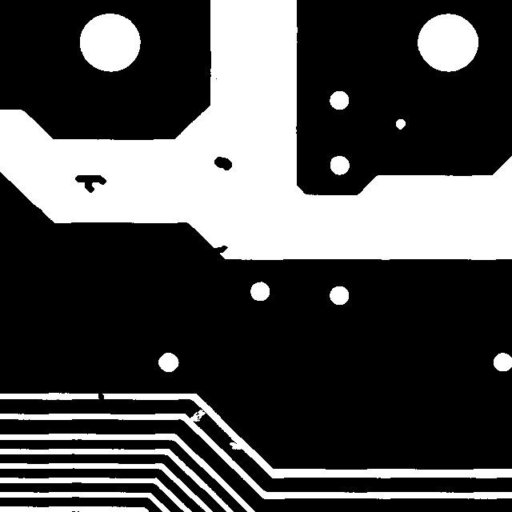copper: (67, 167, 114, 200), (206, 149, 239, 178)
mousebite: (222, 434, 251, 457)
open: (182, 402, 213, 429)
pin-hole: (388, 111, 413, 137)
short: (90, 382, 111, 409)
spur: (206, 238, 235, 262)
